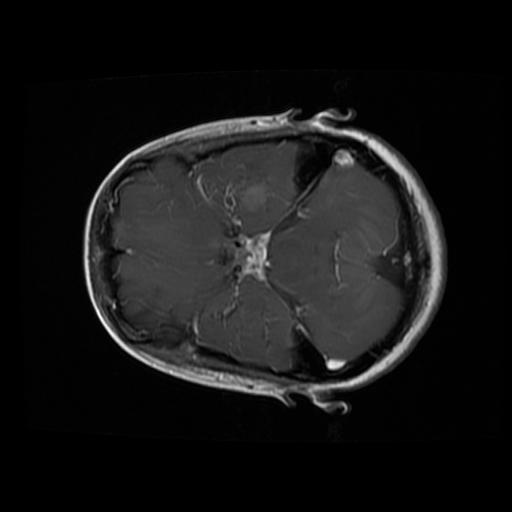glioma: (221, 162, 274, 216)
